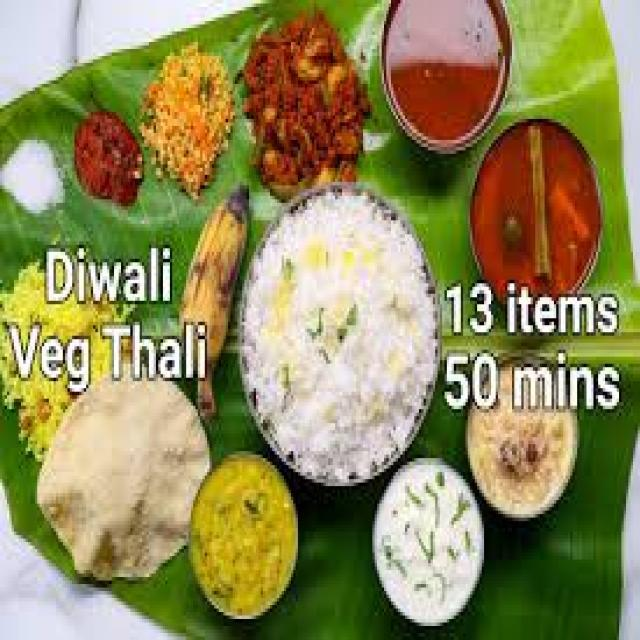curd: (367, 446, 488, 626)
dal: (189, 446, 300, 611)
papad: (29, 365, 215, 566)
pickle: (69, 107, 151, 208)
rice: (234, 192, 450, 474)
sambar-rasam: (382, 0, 513, 142)
sweet: (464, 363, 584, 520)
veg-fry: (244, 0, 383, 185)
